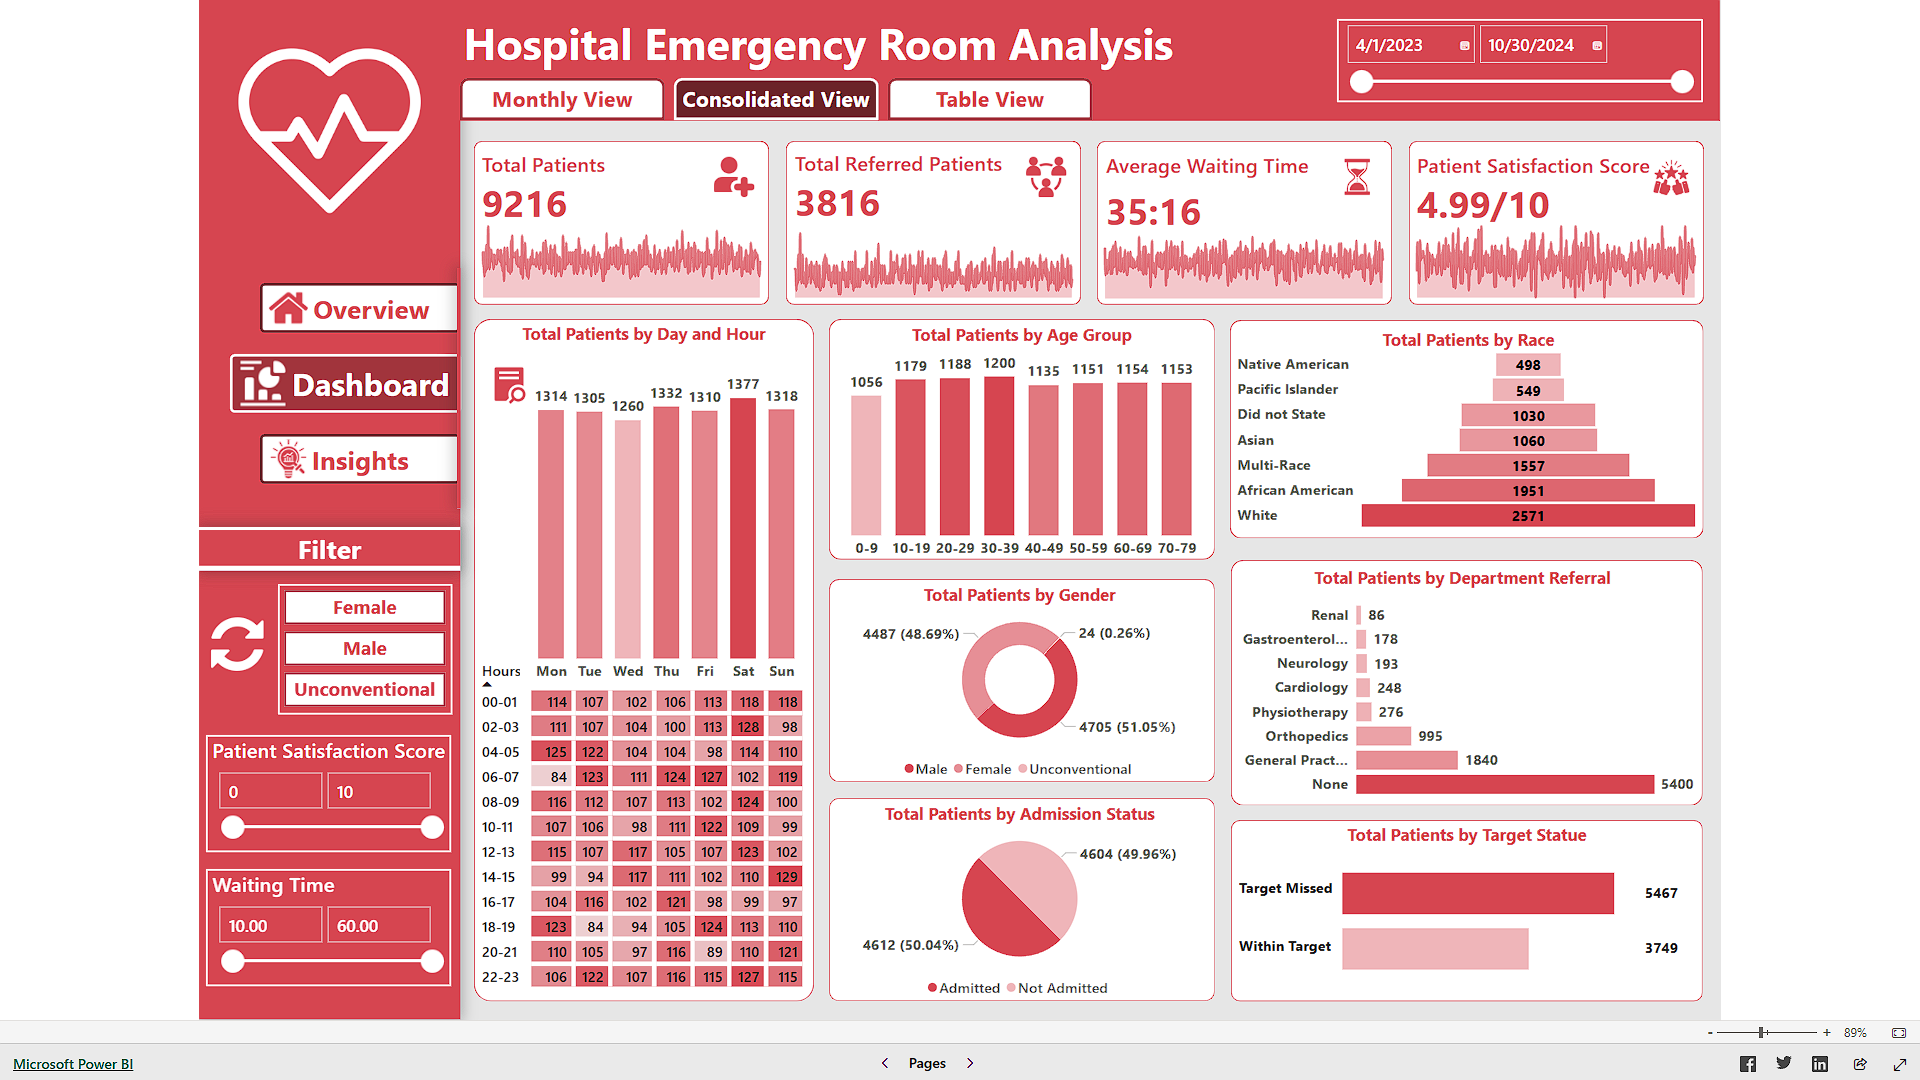

What the dashboard file says about the page in this screenshot:
{"tool":"powerbi","page":{"name":"Table View","canvas":[1700,1140],"ordinal":6},"visuals":[{"type":"shape","box":[0,0,292.2,1139.5],"z":0},{"type":"textbox","title":"Hospital Emergency Room Analysis","box":[290.8,14.7,938.4,91],"z":0,"group":"g1"},{"type":"actionButton","box":[34.3,396.3,258.6,65.7],"z":0,"group":"g2"},{"type":"textbox","title":"Filter","box":[0,592.7,292,40.3],"z":0,"group":"g4"},{"type":"shape","box":[292,0,1408,135],"z":1000},{"type":"actionButton","box":[68.2,485.2,224,55.7],"z":1000,"group":"g2"},{"type":"image","box":[0,38.6,291.4,214.3],"z":2000},{"type":"actionButton","box":[68.2,316.7,224,55.7],"z":2000,"group":"g2"},{"type":"pageNavigator","box":[292.2,87,709,47],"z":3000},{"type":"shape","box":[288,300,4.2,268.5],"z":3000,"group":"g2"},{"type":"tableEx","fields":{"Values":["Hospital ER.Patient Id","Hospital ER.Patient Name","Hospital ER.Patient Gender","Hospital ER.Patient Age","Hospital ER.Patient Race","Hospital ER.Patient Admission Date","Hospital ER.Patient Admission Time","Hospital ER.Waiting Time","Hospital ER.Department Referral","Hospital ER.Admission Status"]},"box":[292.2,133.6,1408,1007.3],"z":4000},{"type":"group","id":"g1","title":"Group 1","box":[290.8,14.7,938.4,91],"z":5000},{"type":"group","id":"g2","title":"Group 2","box":[34.3,300,258.6,268.5],"z":6000},{"type":"group","id":"g3","title":"Group 6","box":[0,588.9,292.2,513.4],"z":7000},{"type":"textFilter25A4896A83E0487089E2B90C9AE57C8A","title":"Search by Patient ID","fields":{"field":["Hospital ER.Patient Id"]},"box":[1384.3,20.9,299.1,94.6],"z":8000},{"type":"slicer","title":"Patient Satisfaction Score","fields":{"Values":["Hospital ER.Patient Satisfaction Score"]},"box":[8.1,821,274.5,131.2],"z":48000,"group":"g3"},{"type":"slicer","title":"Waiting Time","fields":{"Values":["Hospital ER.Patient Waittime"]},"box":[8.1,971.1,274.5,131.2],"z":49000,"group":"g3"},{"type":"advancedSlicerVisual","title":"Patient Satisfaction Score","fields":{"Values":["Hospital ER.Patient Gender"]},"box":[87.9,653,194.7,146],"z":50000,"group":"g3"},{"type":"image","box":[8.3,683.1,69.6,73.7],"z":51000,"group":"g3"},{"type":"shape","box":[0,588.9,292.2,48.7],"z":52001,"group":"g3"},{"type":"group","id":"g4","title":"Group 1","box":[0,592.7,292,40.3],"z":52501,"group":"g3"}]}

Visuals, with their boxes on the page's 1700x1140 design canvas (x1, y1, x2, y2). These are canvas units, not pixel positions in the 1920x1080 screenshot, which may show the page scaled, cropped or inside an application window:
shape: locate(0, 0, 292, 1140)
"Hospital Emergency Room Analysis" textbox: locate(291, 15, 1229, 106)
actionButton: locate(34, 396, 293, 462)
"Filter" textbox: locate(0, 593, 292, 633)
shape: locate(292, 0, 1700, 135)
actionButton: locate(68, 485, 292, 541)
image: locate(0, 39, 291, 253)
actionButton: locate(68, 317, 292, 372)
pageNavigator: locate(292, 87, 1001, 134)
shape: locate(288, 300, 292, 568)
tableEx - Hospital ER.Patient Id x Hospital ER.Patient Name: locate(292, 134, 1700, 1141)
"Group 1" group: locate(291, 15, 1229, 106)
"Group 2" group: locate(34, 300, 293, 568)
"Group 6" group: locate(0, 589, 292, 1102)
"Search by Patient ID" textFilter25A4896A83E0487089E2B90C9AE57C8A: locate(1384, 21, 1683, 116)
"Patient Satisfaction Score" slicer: locate(8, 821, 283, 952)
"Waiting Time" slicer: locate(8, 971, 283, 1102)
"Patient Satisfaction Score" advancedSlicerVisual: locate(88, 653, 283, 799)
image: locate(8, 683, 78, 757)
shape: locate(0, 589, 292, 638)
"Group 1" group: locate(0, 593, 292, 633)
